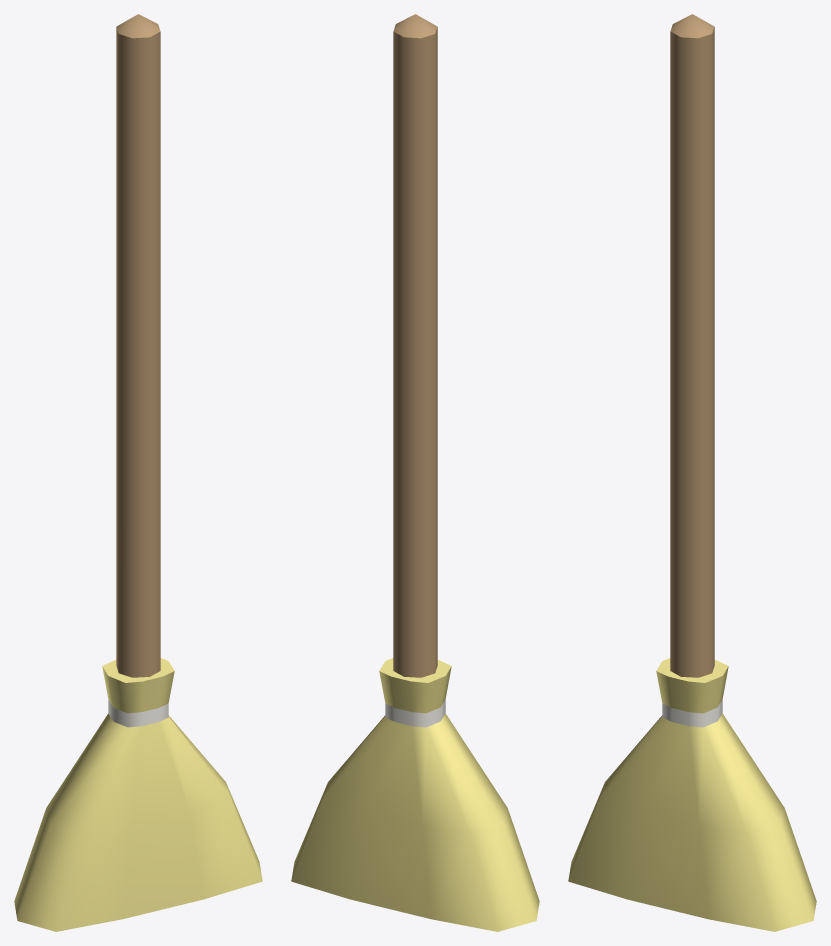
The model's file is Broom.fbx.
3 views of the same model, side by side, from view 1: azimuth 30°, elevation 25°; view 2: azimuth 150°, elevation 25°; view 3: azimuth 330°, elevation 25° (orthographic).
Visible parts, largest first — view 1: pCylinder2; view 2: pCylinder2; view 3: pCylinder2.
Part boxes in pixels (x1,y1,x2,y2): pCylinder2: [14, 14, 262, 931]; pCylinder2: [291, 14, 539, 931]; pCylinder2: [568, 14, 816, 931].
Size of the model in its own units: 10.08 by 34.89 by 3.54.
